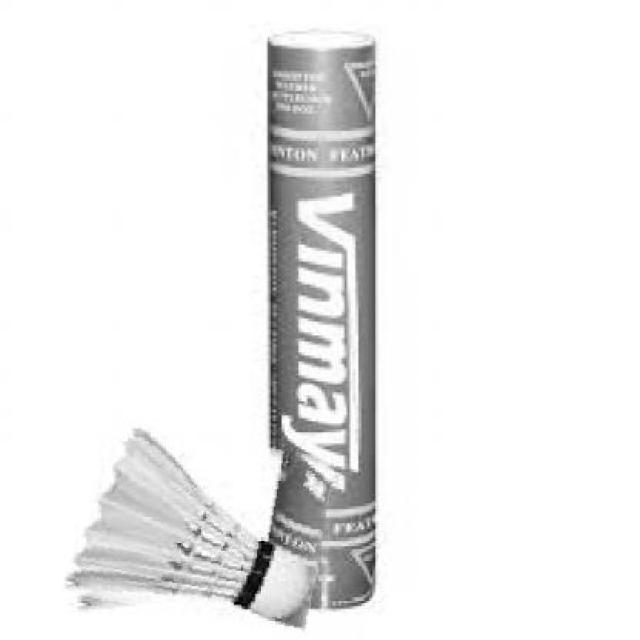Shuttlecock: (71, 428, 329, 624)
